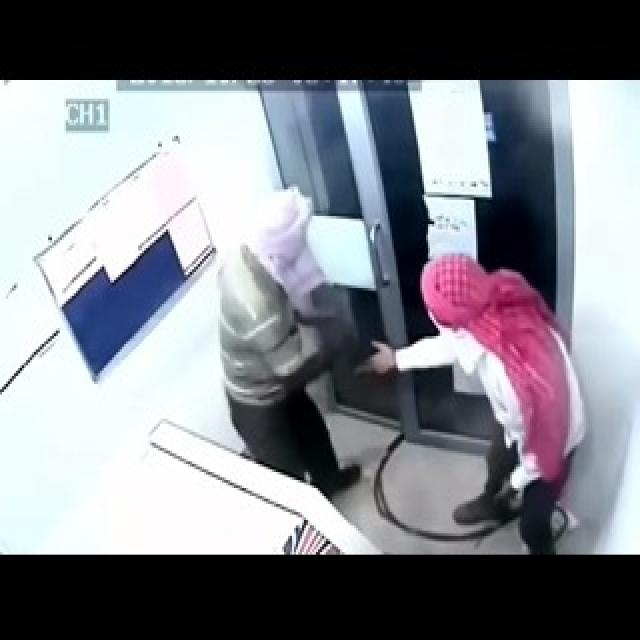thief: (247, 186, 564, 505)
